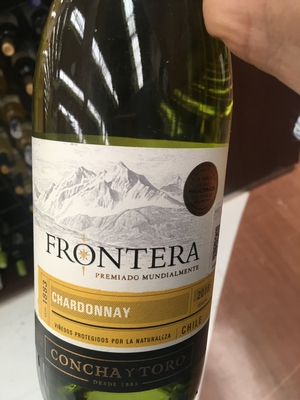frontera chardonnay: (33, 4, 241, 400)
